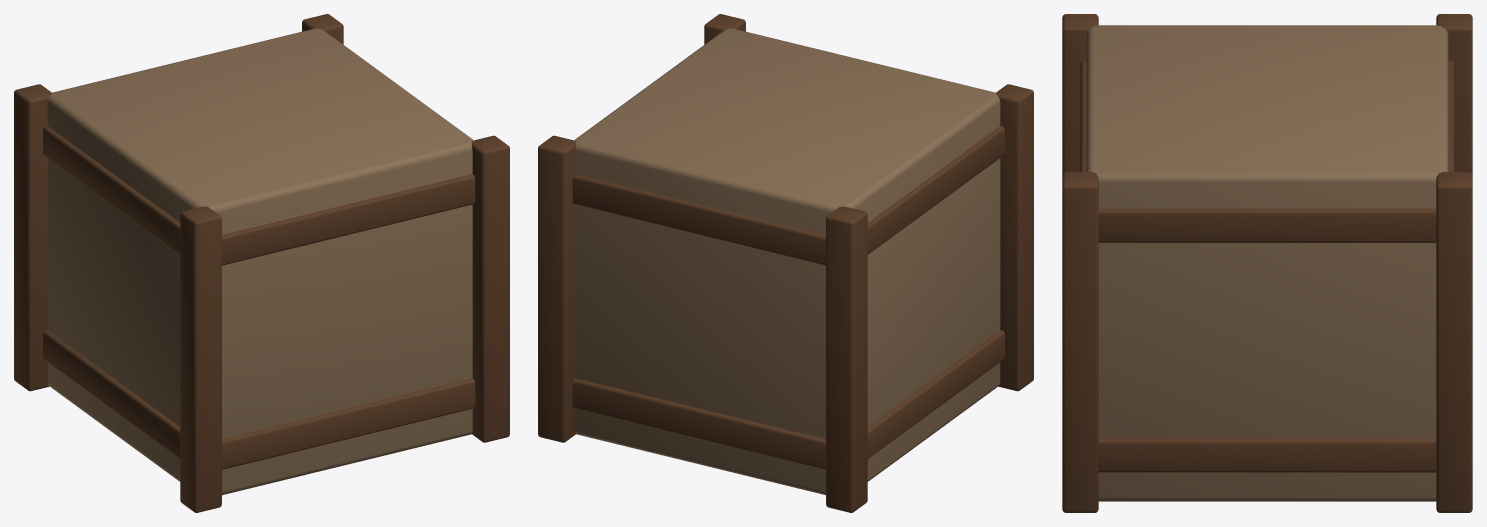
The model's file is crate.fbx.
The picture shows the model from 3 angles, left to right: view 1: azimuth 30°, elevation 25°; view 2: azimuth 150°, elevation 25°; view 3: azimuth 270°, elevation 25°; orthographic projection. The views are drawn at different scales.
Parts seen in each view (by area): view 1: box, post, strap.001, strap, post.002, post.001, post.003; view 2: box, post.001, strap.001, strap, post.003, post, post.002; view 3: box, strap.001, post.002, post.003, strap, post, post.001.
Boxes of the visible parts, left/top/right/bottom form: box: left=47, top=28, right=473, bottom=495; post: left=180, top=206, right=221, bottom=512; strap.001: left=43, top=126, right=475, bottom=265; strap: left=43, top=330, right=475, bottom=469; post.002: left=471, top=135, right=509, bottom=442; post.001: left=14, top=84, right=51, bottom=391; post.003: left=302, top=14, right=343, bottom=44; box: left=574, top=28, right=1000, bottom=495; post.001: left=826, top=206, right=867, bottom=512; strap.001: left=572, top=126, right=1004, bottom=265; strap: left=572, top=330, right=1004, bottom=469; post.003: left=538, top=135, right=576, bottom=442; post: left=996, top=84, right=1033, bottom=391; post.002: left=704, top=14, right=745, bottom=44; box: left=1086, top=25, right=1448, bottom=501; strap.001: left=1080, top=61, right=1454, bottom=242; post.002: left=1062, top=172, right=1098, bottom=512; post.003: left=1436, top=172, right=1472, bottom=512; strap: left=1098, top=438, right=1436, bottom=472; post: left=1062, top=14, right=1098, bottom=174; post.001: left=1436, top=14, right=1472, bottom=174.
Size of what is drawn, in the model's own units: 68 by 60 by 68.
